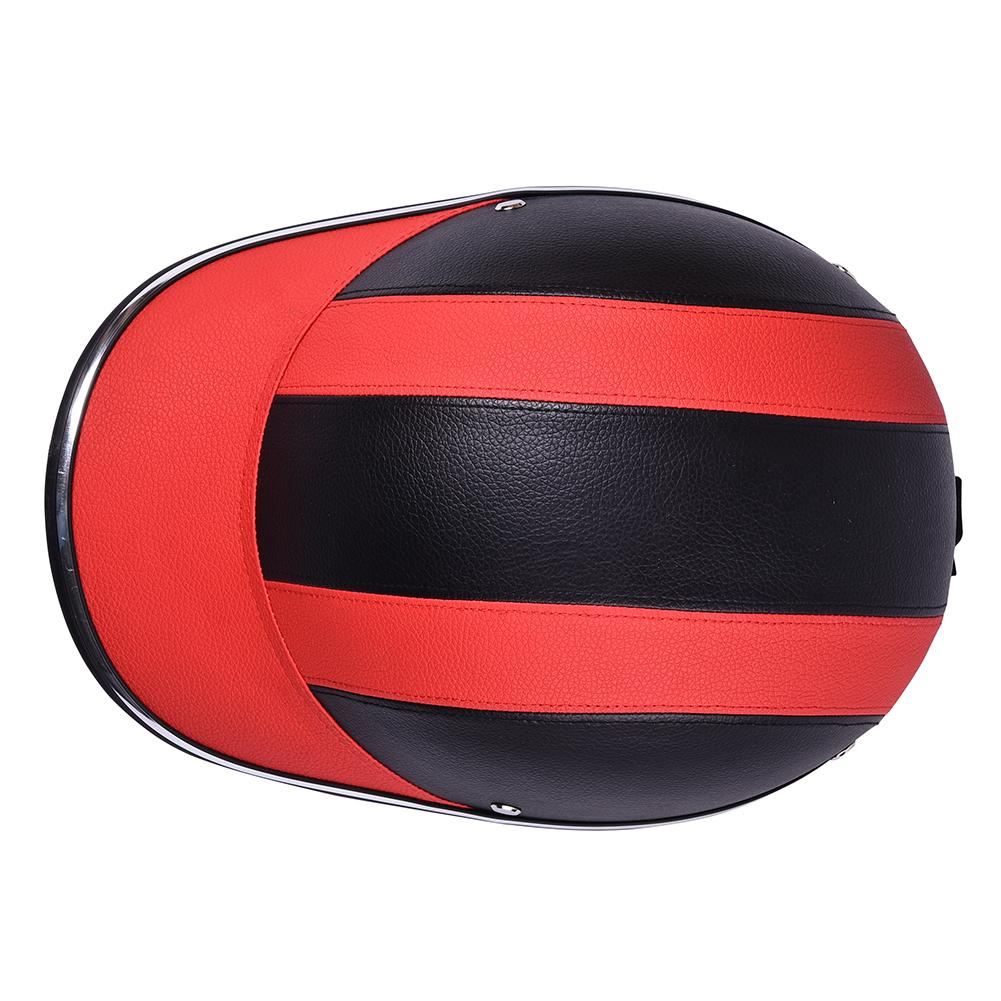Helmet: (36, 175, 978, 847)
